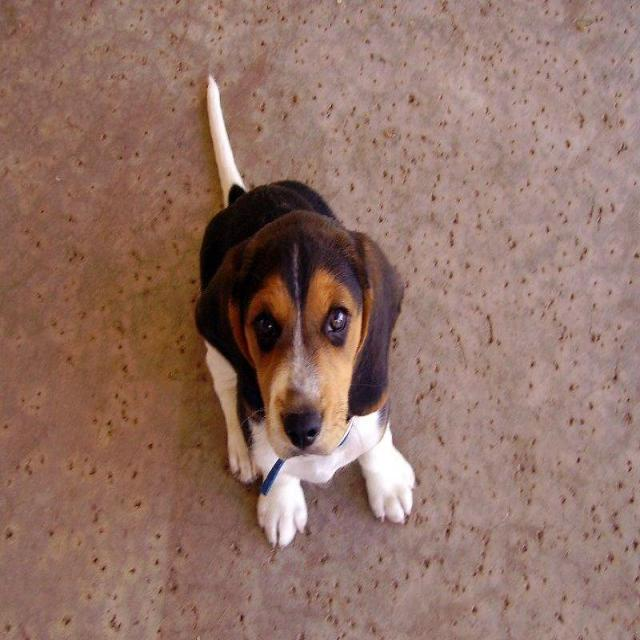beagle: (190, 74, 424, 554)
